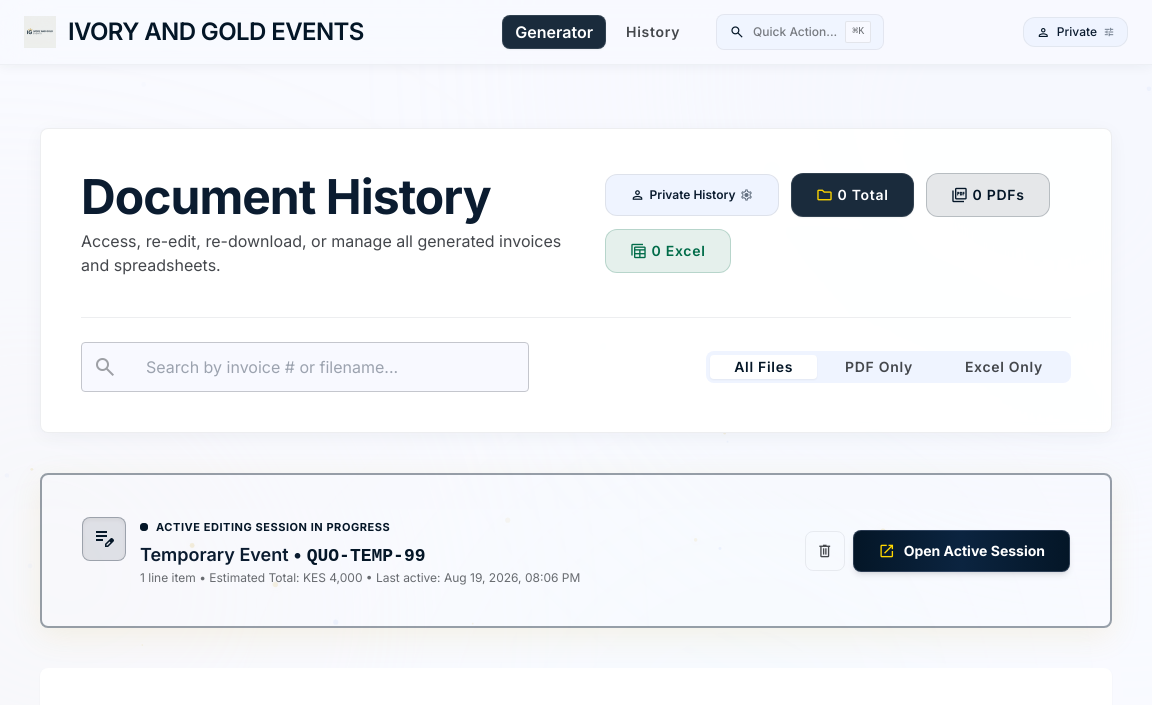
Test: HistoryPage - Active Draft & Workspace Isolation › hides active editing session banner after user discards draft
Expected: the heading "Temporary Event • QUO-TEMP-99" is shown, [140,544,426,566]
What coordinates should you click on to do the following:
click the button titled "Discard this draft session"
I would click on:
 (825, 550)
Its box is [805,530,845,570].
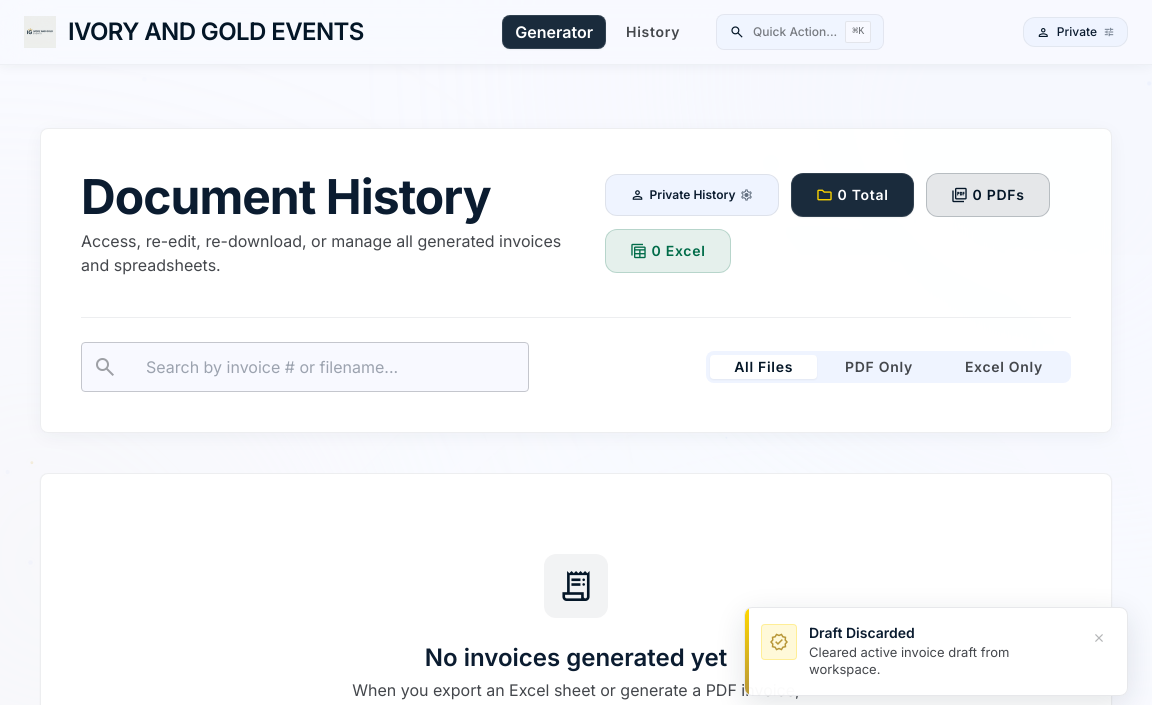
Expected: the heading "Temporary Event" is gone
Expected: the text "Active Editing Session In Progress" is gone
